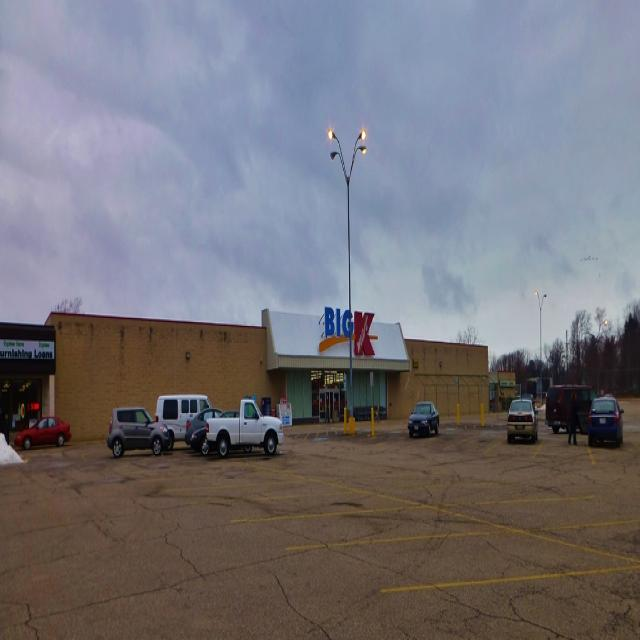car: (107, 405, 169, 450), (587, 395, 622, 440), (12, 413, 68, 441), (508, 392, 536, 435), (408, 399, 437, 430)
